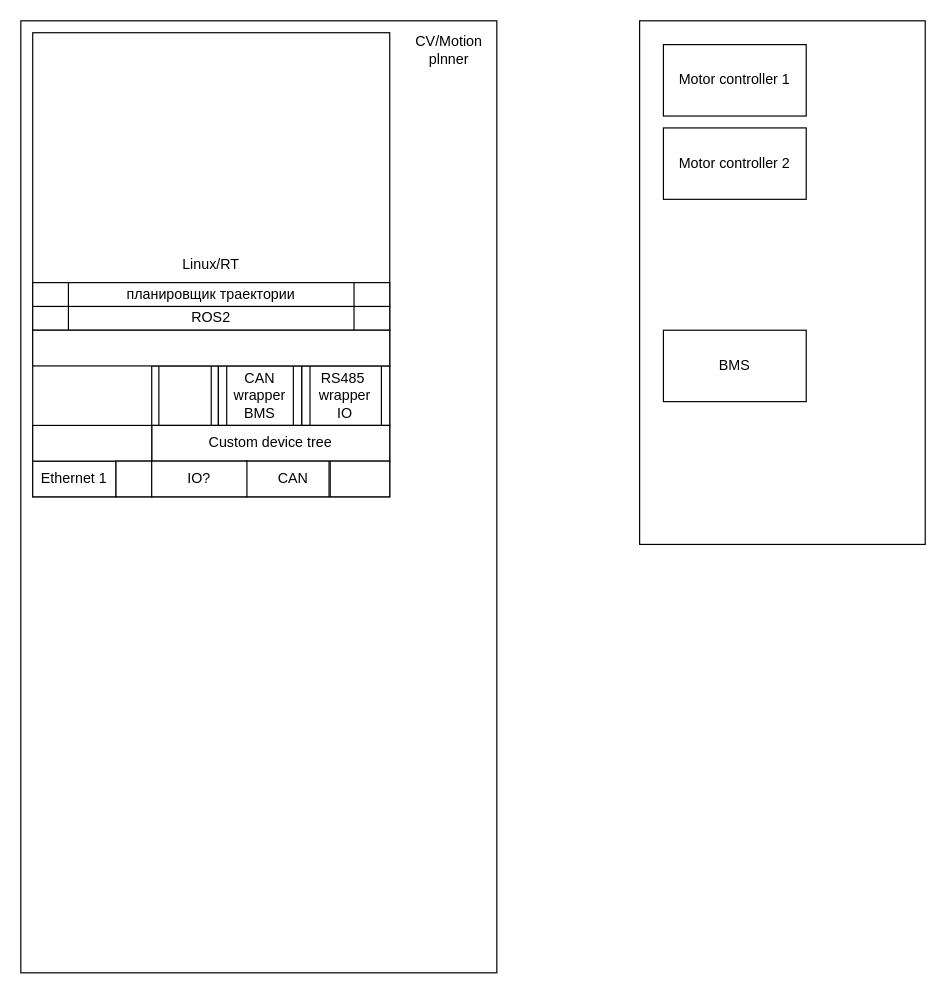
Some shapes in this 946 by 994 pixel diagram are drawn without their labels. Each missing label, with the box of its shape:
CAN wrapper MC: (151, 365, 218, 425)
Electrical: (638, 20, 925, 544)
etc: (115, 460, 152, 497)
RS485: (329, 460, 390, 497)
Std device tree: (32, 424, 152, 461)
topics: (32, 329, 390, 366)
